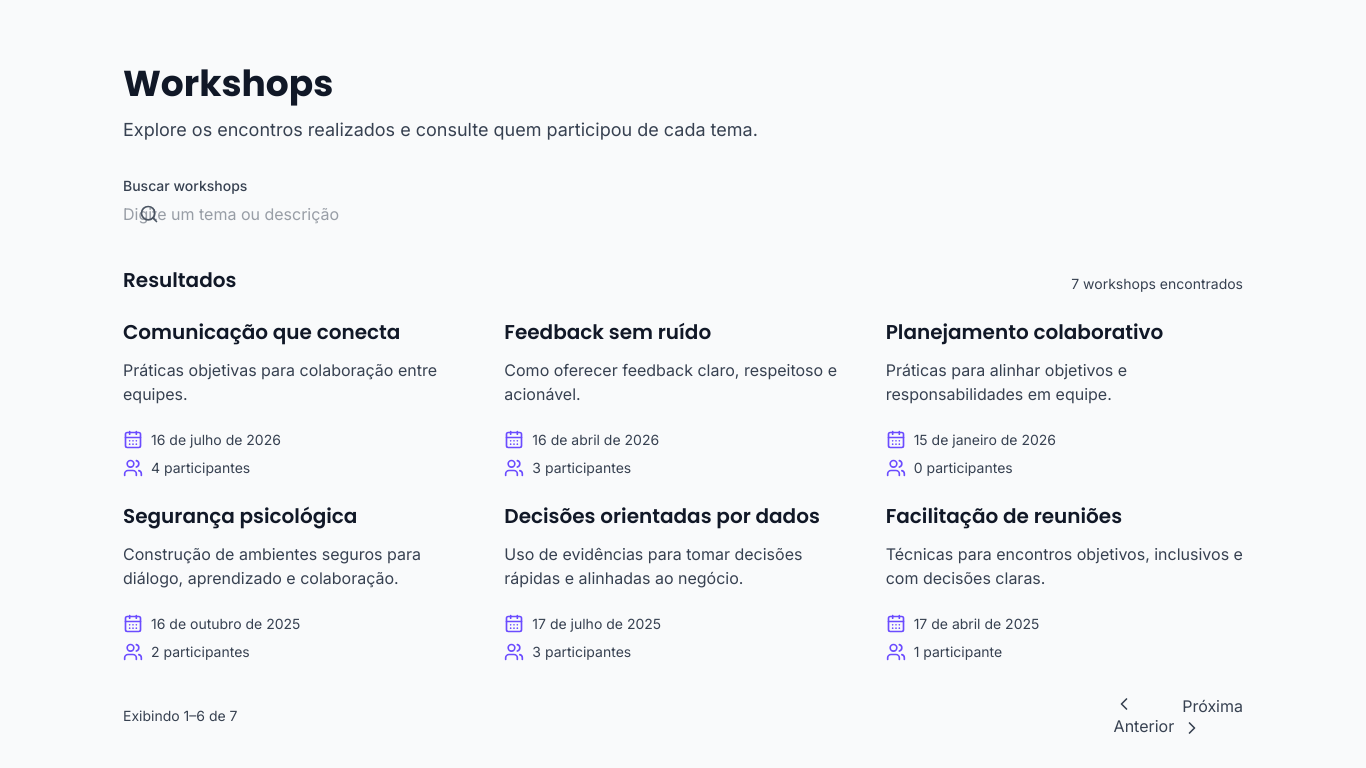
Test: WorkshopsPage › filters workshops after the search debounce
Check: the heading "Feedback sem ruído" is shown, box [504,318,711,346]
In the search field labelled "Buscar workshops": (240, 214) [123,202,357,226], type "Feedback"
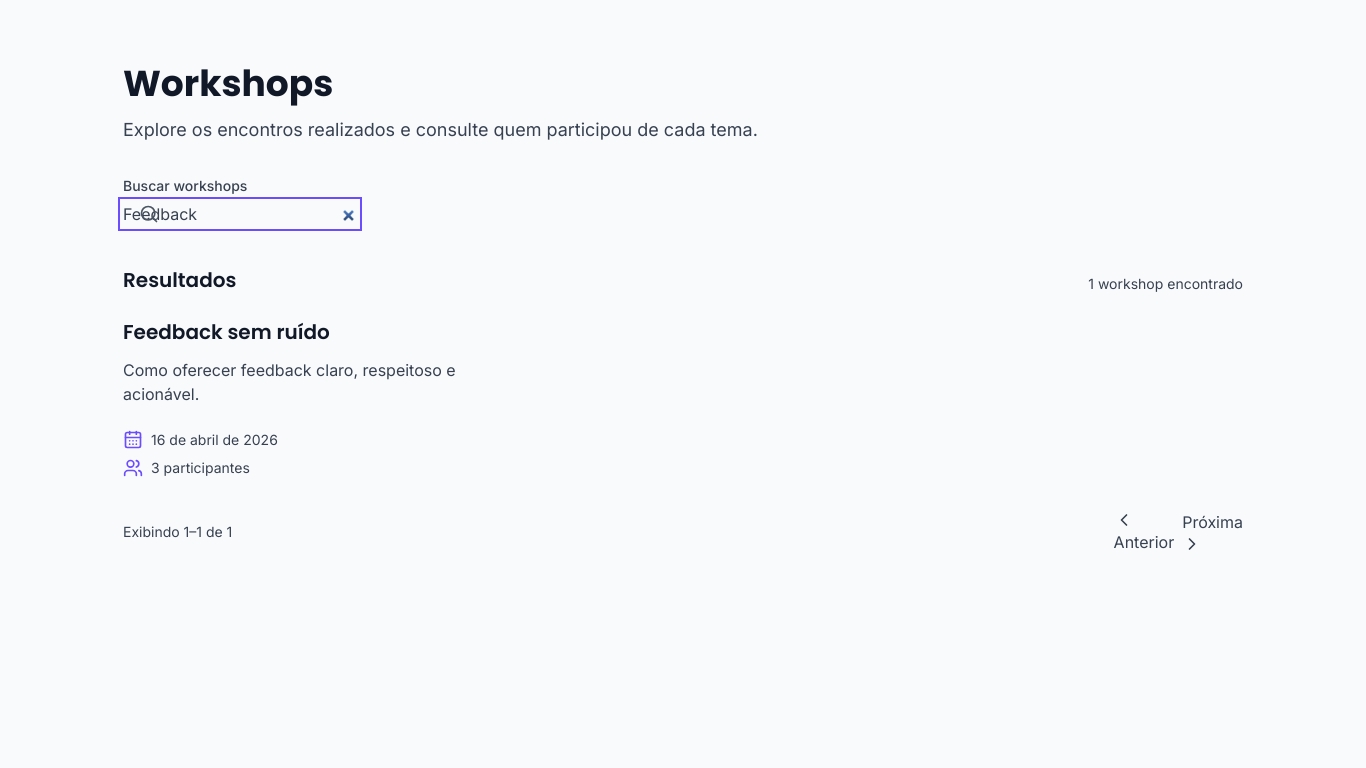
Check: the heading "Feedback sem ruído" is shown, box [123,318,330,346]
Check: the text "1 workshop encontrado" is shown, box [1088,274,1243,294]
Check: the link "Comunicação que conecta" is gone
